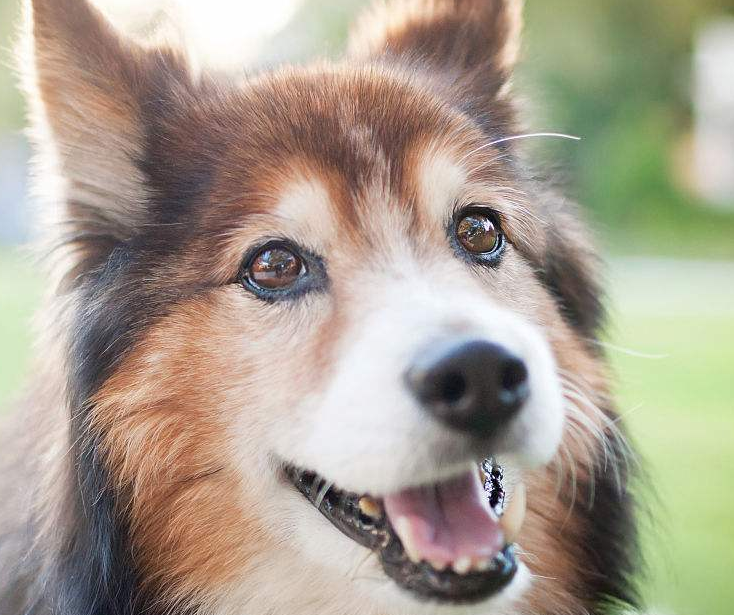nose: (400, 328, 545, 439)
